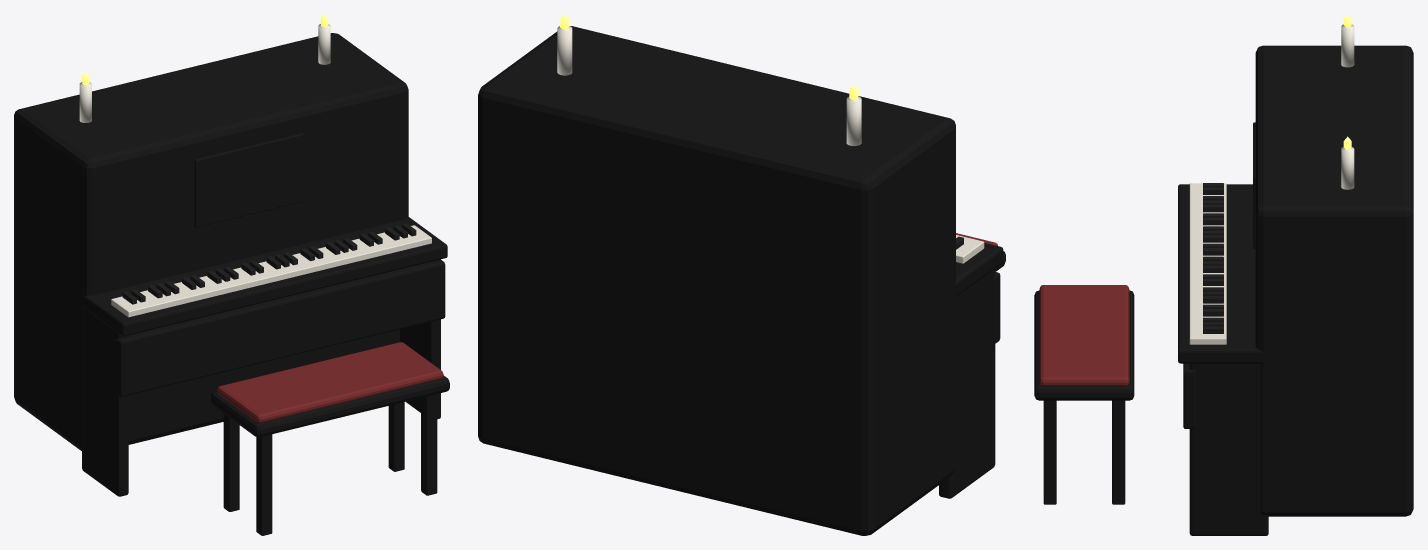
File: pianoforte.glb
The picture shows the model from 3 angles, left to right: view 1: azimuth 30°, elevation 25°; view 2: azimuth 150°, elevation 25°; view 3: azimuth 270°, elevation 25°; orthographic projection. The views are drawn at different scales.
Visible parts, largest first — view 1: Cube, Cube.003, Cube.001, Cube.033, Cube.006, Cube.004, Cube.002, Cube.032, Cube.034, Cube.036, Cube.035, Cube.005 (+2 smaller); view 2: Cube, Cube.004, Cube.001, Cylinder, Cylinder.001; view 3: Cube, Cube.005, Cube.033, Cube.001, Cube.002, Cube.032, Cube.037, Cube.036, Cube.003, Cylinder.001, Cylinder.
Boxes of the visible parts, x1,y1,x2,y2 form: Cube: (14,33,408,451); Cube.003: (115,260,445,396); Cube.001: (80,217,447,336); Cube.033: (217,342,443,422); Cube.006: (194,133,303,227); Cube.004: (82,309,128,496); Cube.002: (111,225,431,317); Cube.032: (211,375,449,437); Cube.034: (256,434,272,535); Cube.036: (421,394,437,495); Cube.035: (223,414,239,511); Cube.005: (400,259,440,419); Cube: (478,26,955,535); Cube.004: (939,268,995,498); Cube.001: (953,243,1003,297); Cylinder: (557,26,572,75); Cylinder.001: (846,96,861,145); Cube: (1255,45,1413,516); Cube.005: (1189,363,1268,535); Cube.033: (1039,285,1129,385); Cube.001: (1178,184,1267,363); Cube.002: (1189,183,1226,344); Cube.032: (1034,290,1134,400); Cube.037: (1112,400,1125,504); Cube.036: (1043,400,1056,504); Cube.003: (1183,363,1195,428); Cylinder.001: (1341,24,1354,67); Cylinder: (1341,147,1354,189).
Size of the model in its own units: 1.5 by 1.61 by 1.44.
